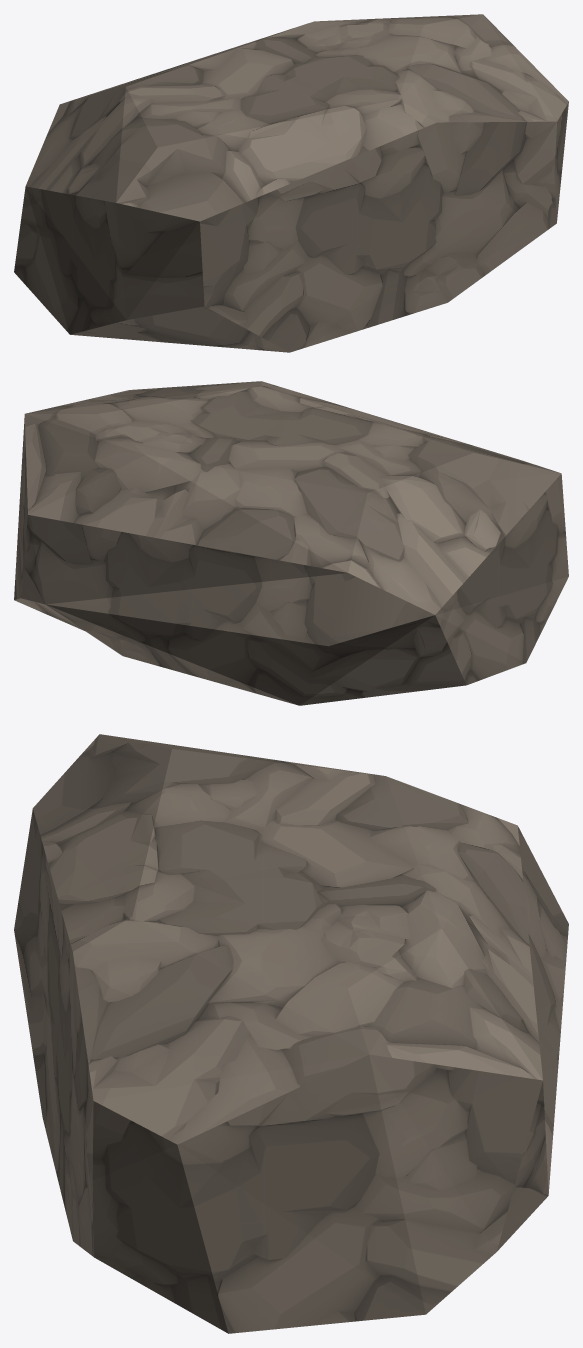
Rendered from synty-rock-04.gltf.
3 renders of one model, top to bottom at view 1: azimuth 30°, elevation 25°; view 2: azimuth 150°, elevation 25°; view 3: azimuth 270°, elevation 25°, orthographic. The views are drawn at different scales.
Visible parts, largest first — view 1: SM_Rock_04; view 2: SM_Rock_04; view 3: SM_Rock_04.
Part boxes in pixels (x1,y1,x2,y2): SM_Rock_04: [14, 14, 568, 352]; SM_Rock_04: [14, 381, 568, 705]; SM_Rock_04: [14, 734, 568, 1333].
Bounding box in the file's own units: 0.6252 × 0.2811 × 0.4046.
1 material, 1 textured.
